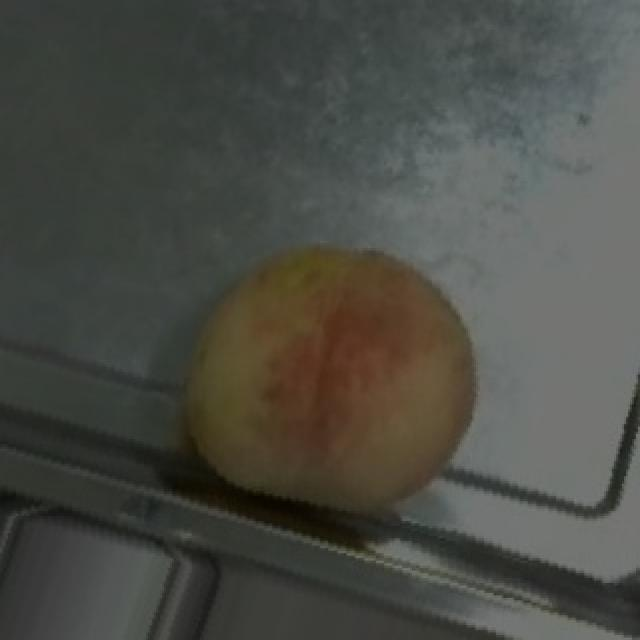Fruit: (138, 211, 466, 546)
